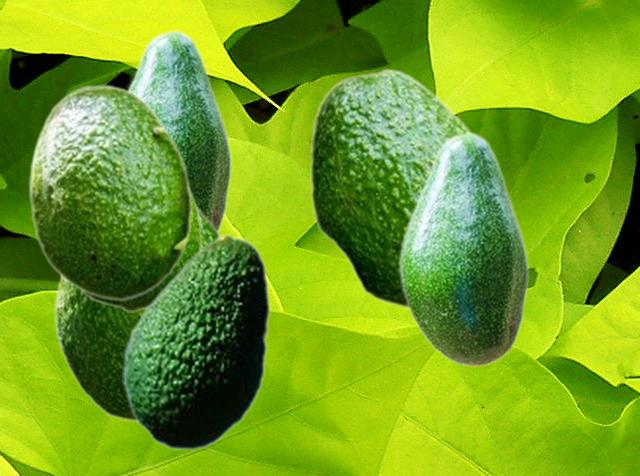avocado: (308, 67, 475, 311), (54, 202, 224, 422), (27, 84, 192, 300), (122, 234, 269, 450), (397, 131, 528, 367), (126, 29, 231, 231), (80, 183, 201, 311)
